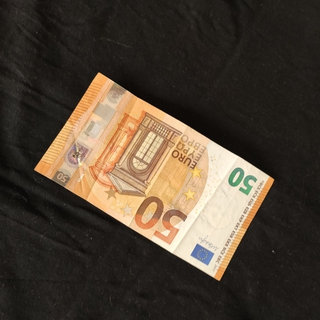50EUROFront: (32, 70, 275, 282)
